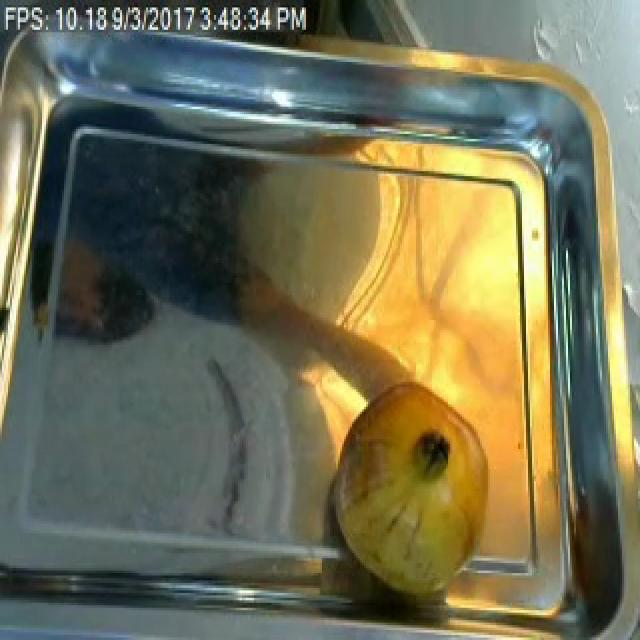fruit: (320, 364, 502, 612)
